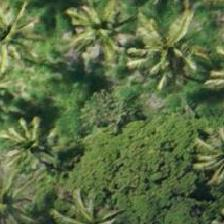coconut_tree: (116, 17, 206, 107), (55, 0, 145, 81), (0, 101, 81, 191), (0, 0, 50, 78)
